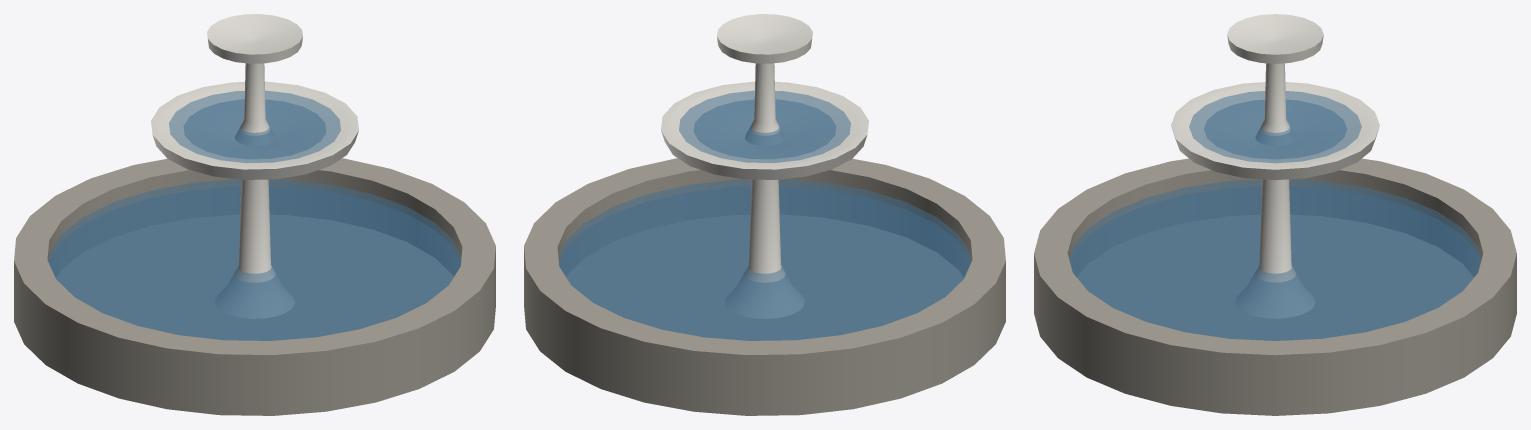
File: home.mansion.fountain.glb
The picture shows the model from 3 angles, left to right: view 1: azimuth 30°, elevation 25°; view 2: azimuth 150°, elevation 25°; view 3: azimuth 270°, elevation 25°; orthographic projection.
Visible parts, largest first — view 1: main__paving, main__water, main__marble; view 2: main__paving, main__water, main__marble; view 3: main__paving, main__water, main__marble.
Boxes of the visible parts, x1=… form: main__paving: x1=14, y1=158, x2=495, y2=415; main__water: x1=48, y1=90, x2=461, y2=340; main__marble: x1=151, y1=14, x2=358, y2=318; main__paving: x1=524, y1=158, x2=1005, y2=415; main__water: x1=558, y1=90, x2=971, y2=340; main__marble: x1=661, y1=14, x2=868, y2=318; main__paving: x1=1034, y1=158, x2=1516, y2=415; main__water: x1=1069, y1=91, x2=1481, y2=340; main__marble: x1=1171, y1=14, x2=1379, y2=318.
Bounding box in the file's own units: 3.6 × 2.3 × 3.6.
